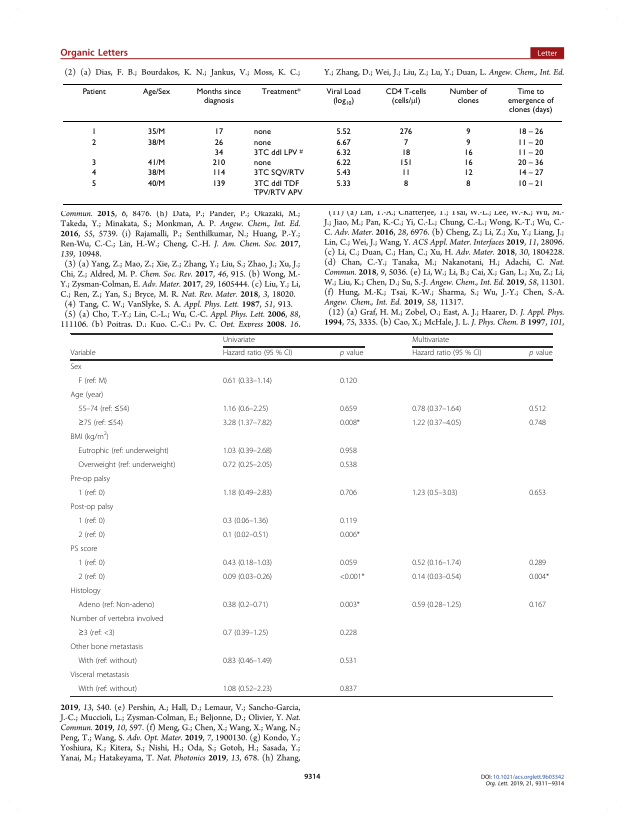borderless: (69, 332, 553, 696), (62, 82, 562, 204)
cell: (506, 86, 554, 115), (77, 460, 176, 470), (253, 178, 303, 197), (384, 85, 427, 107), (70, 614, 164, 624), (77, 446, 170, 456), (195, 86, 241, 105), (77, 600, 155, 610), (325, 86, 361, 107), (448, 86, 487, 105), (70, 642, 144, 652), (411, 349, 483, 359), (222, 349, 293, 359), (77, 656, 138, 666), (77, 684, 138, 694), (70, 670, 130, 680), (77, 404, 130, 414), (253, 168, 305, 178), (222, 376, 273, 386), (411, 404, 462, 414), (222, 418, 273, 428), (411, 418, 462, 428), (222, 446, 273, 456), (222, 460, 273, 470), (222, 488, 273, 498), (222, 558, 273, 568), (411, 558, 462, 568), (222, 572, 273, 582), (411, 572, 462, 582), (411, 600, 462, 610), (222, 656, 273, 666), (222, 684, 273, 694), (253, 147, 303, 157), (222, 404, 269, 414), (77, 418, 124, 428), (411, 488, 458, 498), (222, 516, 269, 526), (222, 530, 269, 540), (222, 600, 269, 610), (222, 628, 269, 638), (70, 431, 110, 442), (70, 502, 114, 512), (260, 86, 301, 96), (70, 474, 111, 484), (77, 628, 116, 638), (411, 336, 450, 345), (70, 390, 104, 400), (77, 376, 108, 386), (70, 586, 101, 596), (222, 336, 256, 345), (141, 86, 171, 96), (77, 488, 106, 498), (77, 516, 106, 526), (77, 530, 106, 540), (77, 558, 106, 568), (77, 572, 106, 582), (70, 544, 98, 554), (517, 127, 544, 137), (517, 137, 544, 147), (517, 158, 544, 168), (517, 168, 544, 178), (517, 178, 544, 188), (339, 572, 366, 582), (70, 349, 96, 359), (81, 86, 106, 96), (339, 349, 364, 359), (528, 349, 553, 359), (517, 148, 544, 157), (339, 418, 361, 428), (339, 530, 361, 540), (528, 572, 550, 582), (339, 600, 361, 610), (147, 127, 166, 137), (147, 137, 166, 147), (147, 158, 166, 168), (147, 168, 166, 178), (147, 178, 166, 188), (339, 376, 358, 386), (339, 404, 358, 414), (528, 404, 547, 414), (528, 418, 547, 428), (339, 446, 358, 456), (339, 460, 358, 470), (339, 488, 358, 498), (528, 488, 547, 498), (339, 516, 358, 526), (339, 558, 358, 568), (528, 558, 547, 568), (528, 600, 547, 610), (339, 628, 358, 638), (339, 656, 358, 666), (339, 684, 358, 694), (253, 127, 271, 137), (253, 137, 271, 147), (253, 158, 271, 168), (335, 127, 351, 137), (335, 137, 351, 147), (335, 158, 351, 168), (335, 168, 351, 178), (335, 178, 351, 188), (398, 127, 413, 137), (211, 158, 226, 168), (398, 158, 413, 168), (211, 168, 226, 178), (211, 178, 226, 188), (335, 148, 351, 157), (70, 362, 82, 372), (213, 127, 224, 137), (213, 137, 224, 147), (400, 168, 411, 178), (463, 158, 473, 168), (463, 168, 473, 178), (213, 148, 224, 157), (400, 148, 411, 157), (463, 148, 473, 157), (402, 137, 409, 147), (402, 178, 409, 188), (91, 127, 97, 137), (465, 127, 471, 137), (91, 137, 97, 147), (465, 137, 471, 147), (91, 158, 97, 168), (91, 168, 97, 178), (91, 178, 97, 188), (465, 178, 471, 188)
